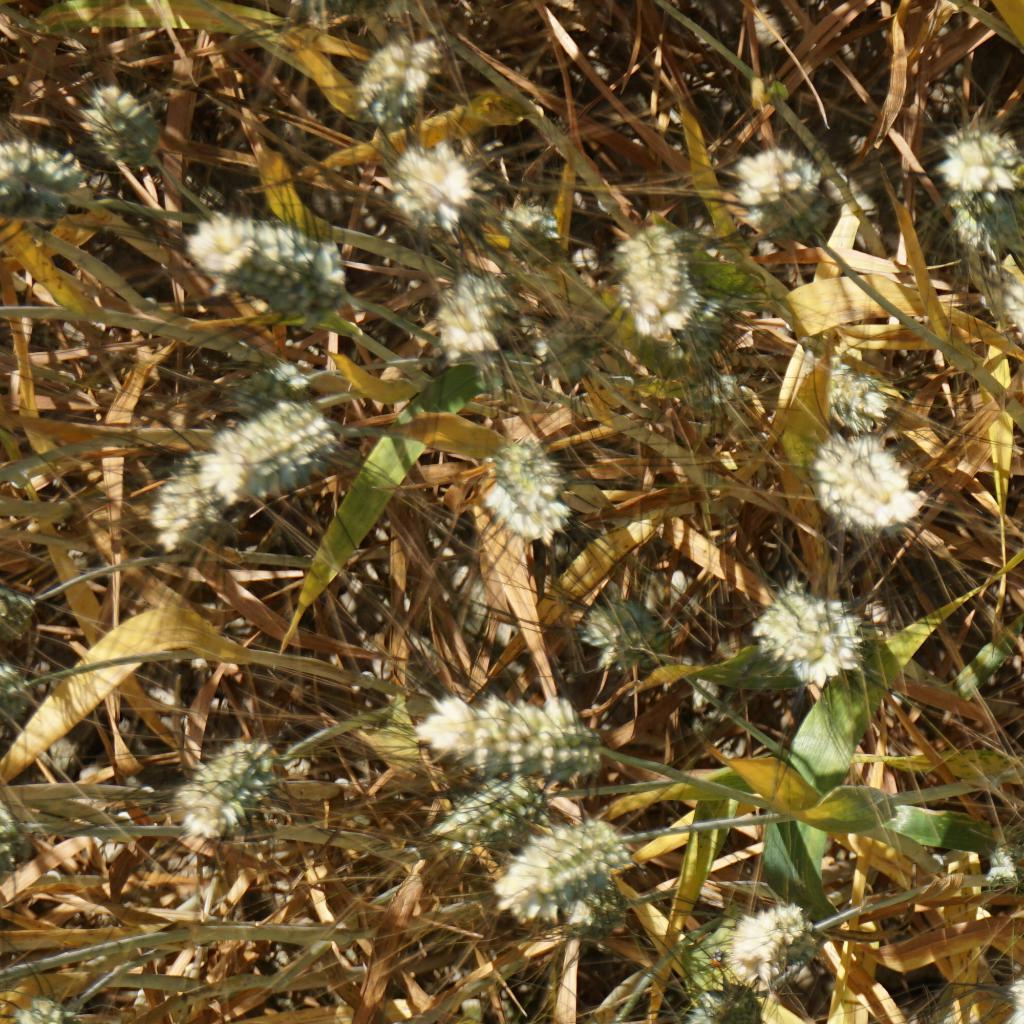0-0: (188, 203, 369, 338), (408, 689, 616, 781), (751, 572, 883, 693), (190, 393, 335, 491), (733, 135, 838, 258), (804, 434, 929, 536), (609, 227, 713, 341), (711, 903, 822, 1005), (472, 435, 570, 534), (480, 824, 627, 886), (380, 139, 482, 224), (515, 307, 613, 394), (433, 264, 515, 363), (135, 474, 236, 552), (492, 195, 577, 280), (936, 183, 1024, 263), (71, 96, 168, 165), (934, 115, 1024, 188), (211, 358, 309, 425), (663, 361, 751, 431), (429, 781, 547, 831), (811, 349, 885, 426), (576, 599, 665, 663), (0, 139, 92, 190), (352, 34, 402, 125), (192, 735, 279, 785), (965, 835, 1022, 910), (182, 796, 261, 845), (0, 187, 89, 229), (392, 39, 438, 116), (564, 881, 625, 931)
